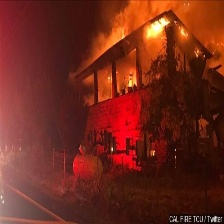fire: (145, 17, 173, 42), (124, 70, 140, 89), (181, 24, 195, 40)
smoke: (109, 1, 224, 22)
